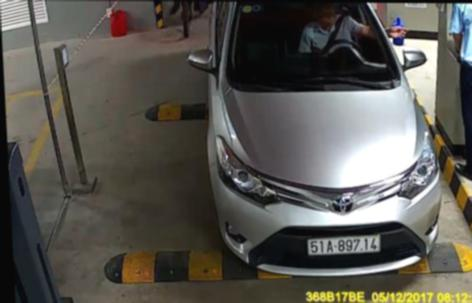License_Plate: (304, 229, 388, 259)
